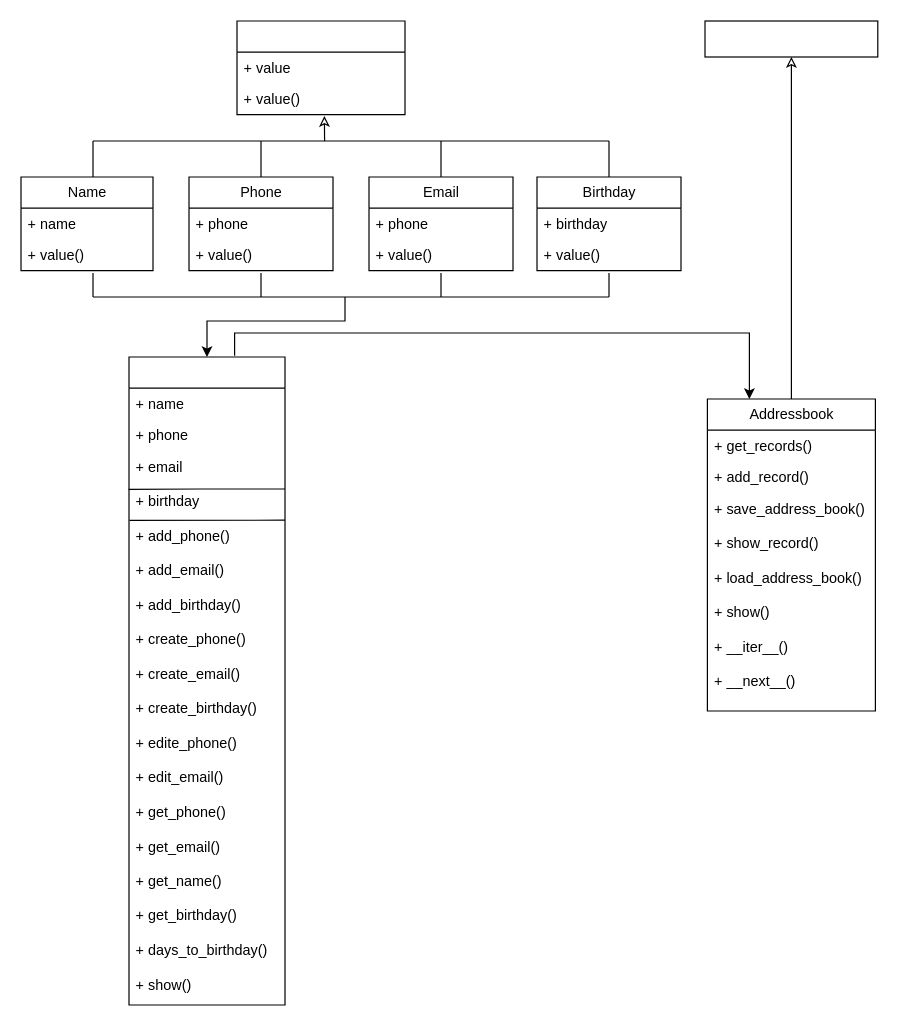
This 899x1030 diagram has some shape labels left out. The shapes that lost their labels are listed below. From the top down, each one's box as (x1, y1, x2, y2) in pixels, then its label:
(704, 20, 878, 57): UserDict
(236, 20, 405, 115): Field
(128, 356, 285, 1005): Record
